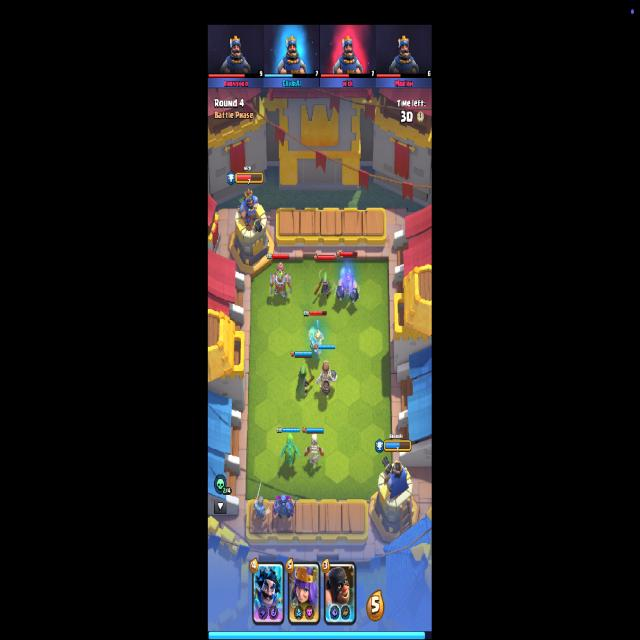baby_dragon: (281, 432, 300, 467)
bandit: (296, 365, 314, 397), (315, 271, 331, 301)
card_archer_queen: (288, 561, 320, 624)
card_e_wiz: (252, 560, 285, 627)
card_executioner: (324, 560, 356, 624)
giant_skeleton: (318, 363, 338, 393)
goblin_machine: (269, 262, 292, 302)
knight: (253, 480, 271, 528)
mega_knight: (335, 270, 360, 304)
pekka: (272, 494, 297, 521)
prince: (308, 319, 324, 354)
skeleton_dragon: (304, 433, 324, 470)
